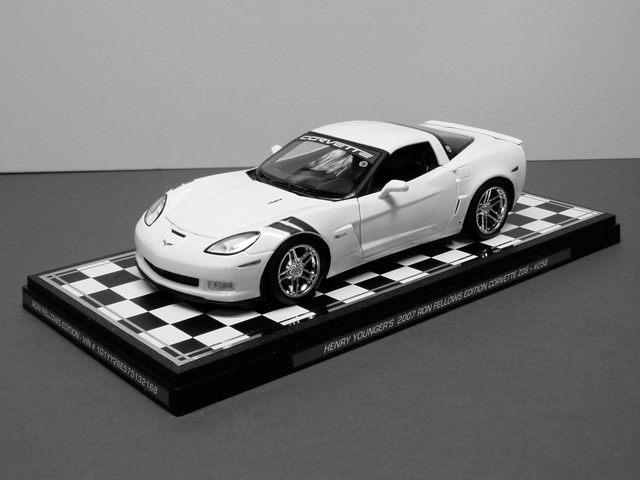car: (132, 116, 528, 307)
